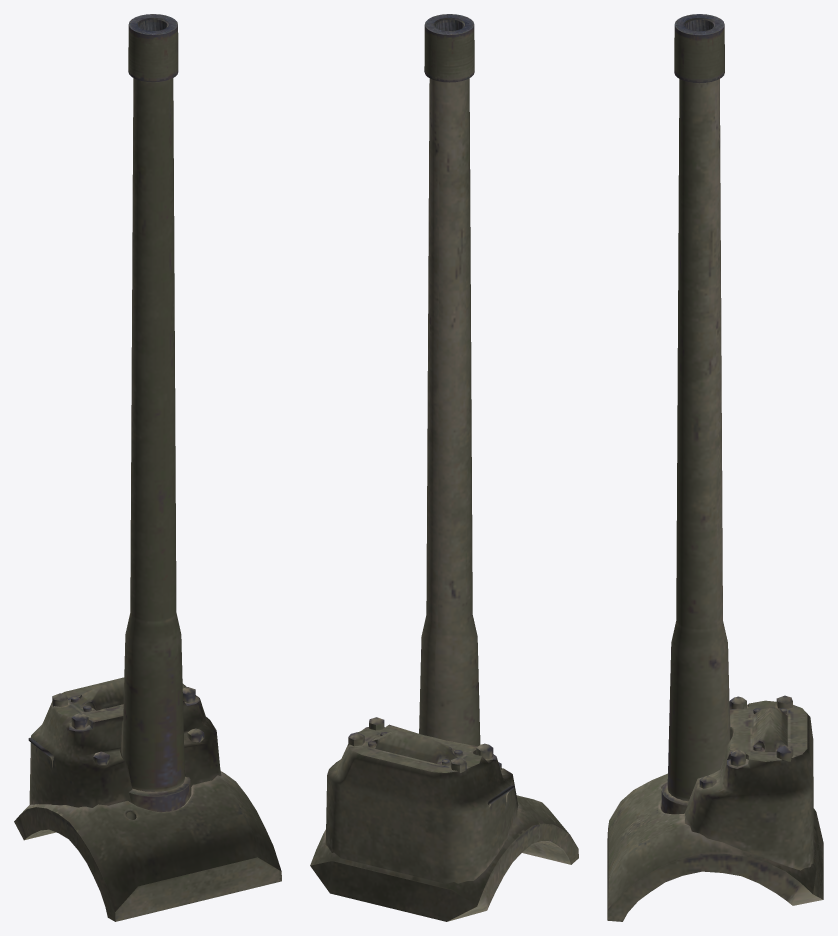
Rendered from Gun_02.glb.
3 views of the same model, side by side, from view 1: azimuth 30°, elevation 25°; view 2: azimuth 150°, elevation 25°; view 3: azimuth 270°, elevation 25° (orthographic).
Visible parts, largest first — view 1: set_0_group_0; view 2: set_0_group_0; view 3: set_0_group_0.
Part boxes in pixels (<box>): set_0_group_0: <box>14,14,281,921</box>; set_0_group_0: <box>310,14,578,921</box>; set_0_group_0: <box>607,14,823,921</box>.
Size of the model in its own units: 0.8543 by 4.02 by 0.92.
1 material, 1 textured.
